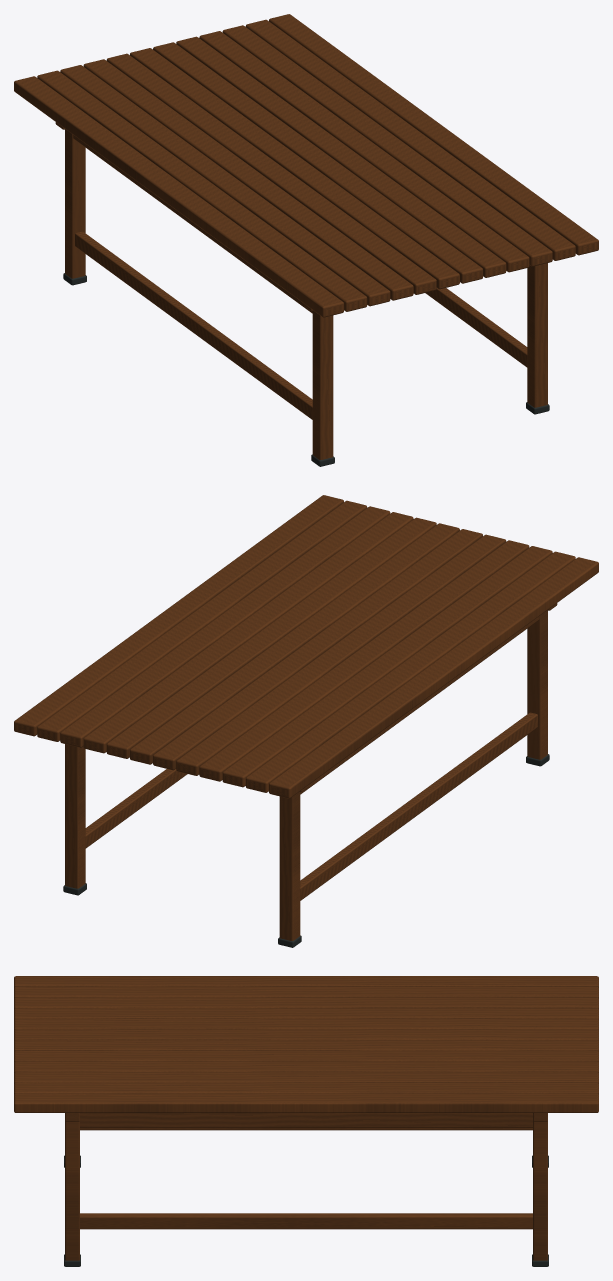
File: teak-serving-table.glb
3 views of the same model, one above another, from view 1: azimuth 30°, elevation 25°; view 2: azimuth 150°, elevation 25°; view 3: azimuth 270°, elevation 25° (orthographic). The views are drawn at different scales.
Visible parts, largest first — view 1: slatted-teak-top, slatted-teak-top.008, slatted-teak-top.001, slatted-teak-top.003, slatted-teak-top.009, slatted-teak-top.002, slatted-teak-top.007, slatted-teak-top.010, slatted-teak-top.005, slatted-teak-top.004, slatted-teak-top.011, slatted-teak-top.006 (+6 smaller); view 2: slatted-teak-top, slatted-teak-top.008, slatted-teak-top.001, slatted-teak-top.003, slatted-teak-top.009, slatted-teak-top.002, slatted-teak-top.007, slatted-teak-top.010, slatted-teak-top.005, slatted-teak-top.004, slatted-teak-top.011, slatted-teak-top.006 (+6 smaller); view 3: slatted-teak-top.011, lower-stretcher.001, slatted-teak-top.002, slatted-teak-top.005, slatted-teak-top.008, long-apron.001, slatted-teak-top, slatted-teak-top.001, slatted-teak-top.004, slatted-teak-top.007, slatted-teak-top.010, slatted-teak-top.003 (+5 smaller).
Part boxes in pixels (bbox=[...]): slatted-teak-top: bbox=[14, 76, 343, 317]; slatted-teak-top.008: bbox=[199, 31, 529, 272]; slatted-teak-top.001: bbox=[37, 70, 367, 311]; slatted-teak-top.003: bbox=[83, 59, 413, 300]; slatted-teak-top.009: bbox=[222, 25, 552, 266]; slatted-teak-top.002: bbox=[60, 65, 390, 306]; slatted-teak-top.007: bbox=[176, 36, 506, 277]; slatted-teak-top.010: bbox=[245, 19, 575, 260]; slatted-teak-top.005: bbox=[130, 48, 459, 289]; slatted-teak-top.004: bbox=[106, 53, 436, 294]; slatted-teak-top.011: bbox=[269, 14, 598, 255]; slatted-teak-top.006: bbox=[153, 42, 482, 283]; slatted-teak-top: bbox=[269, 557, 598, 798]; slatted-teak-top.008: bbox=[83, 512, 413, 753]; slatted-teak-top.001: bbox=[245, 551, 575, 792]; slatted-teak-top.003: bbox=[199, 540, 529, 781]; slatted-teak-top.009: bbox=[60, 506, 390, 747]; slatted-teak-top.002: bbox=[222, 546, 552, 787]; slatted-teak-top.007: bbox=[106, 517, 436, 758]; slatted-teak-top.010: bbox=[37, 500, 367, 741]; slatted-teak-top.005: bbox=[153, 529, 482, 770]; slatted-teak-top.004: bbox=[176, 534, 506, 775]; slatted-teak-top.011: bbox=[14, 495, 343, 736]; slatted-teak-top.006: bbox=[130, 523, 459, 764]; slatted-teak-top.011: bbox=[14, 1093, 598, 1112]; lower-stretcher.001: bbox=[80, 1213, 532, 1229]; slatted-teak-top.002: bbox=[14, 997, 598, 1008]; slatted-teak-top.005: bbox=[14, 1029, 598, 1040]; slatted-teak-top.008: bbox=[14, 1061, 598, 1072]; long-apron.001: bbox=[80, 1113, 532, 1127]; slatted-teak-top: bbox=[14, 976, 598, 987]; slatted-teak-top.001: bbox=[14, 987, 598, 998]; slatted-teak-top.004: bbox=[14, 1019, 598, 1030]; slatted-teak-top.007: bbox=[14, 1051, 598, 1062]; slatted-teak-top.010: bbox=[14, 1083, 598, 1094]; slatted-teak-top.003: bbox=[14, 1008, 598, 1019].
Size of the model in its own units: 1.29 by 0.825 by 2.5.
3 materials, 1 textured.
